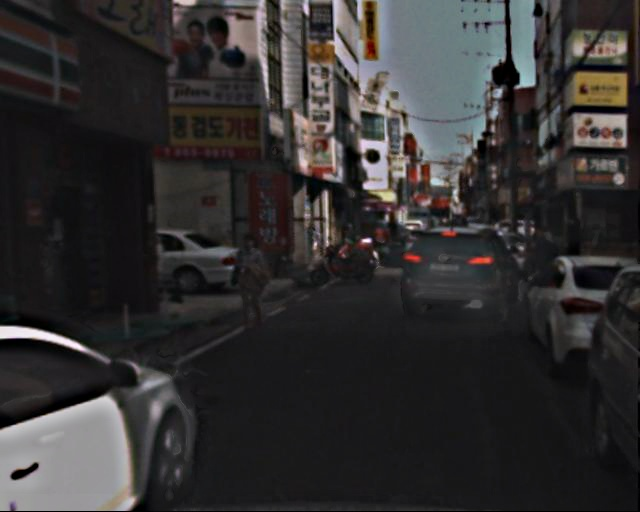person: (231, 234, 273, 336), (527, 229, 561, 313)
